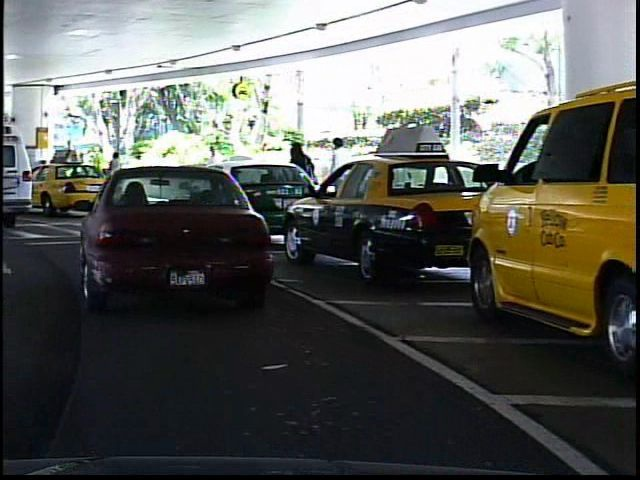person: (281, 135, 317, 228), (323, 130, 355, 221), (200, 139, 227, 204), (101, 147, 126, 198)
